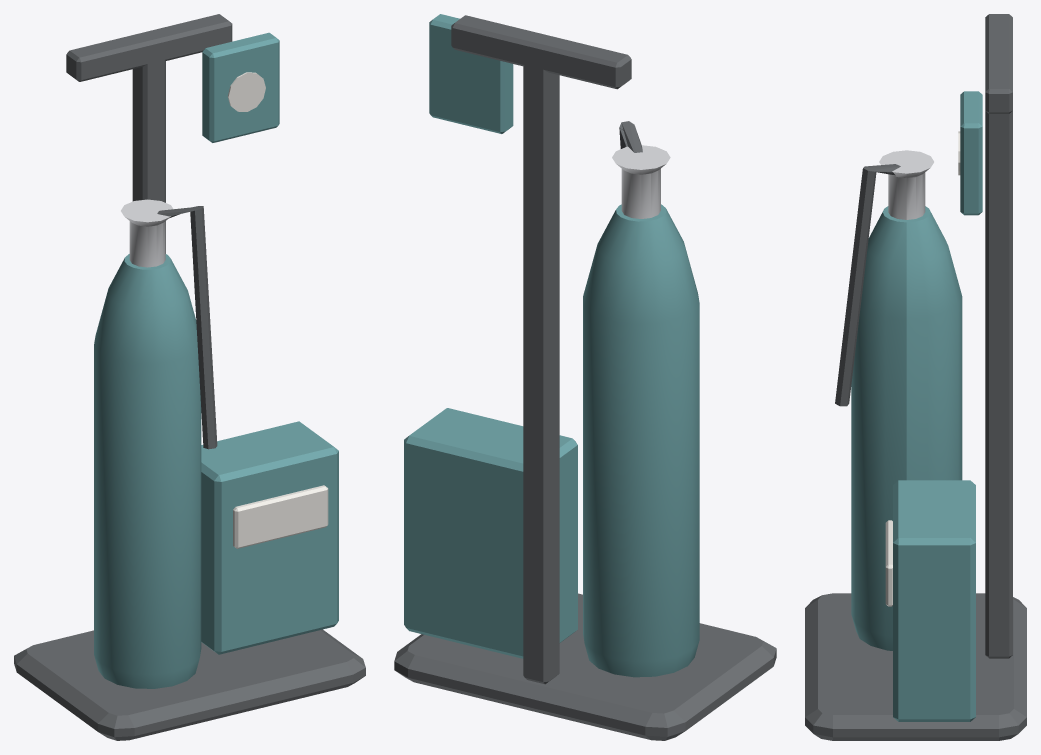
Rendered from hotel-and-resort-operations-corridor-fire-point-dbadb88e__25847.glb.
3 views of the same model, side by side, from view 1: azimuth 30°, elevation 25°; view 2: azimuth 150°, elevation 25°; view 3: azimuth 270°, elevation 25° (orthographic). The views are drawn at different scales.
Visible parts, largest first — view 1: corridor-fire-point; view 2: corridor-fire-point; view 3: corridor-fire-point.
Part boxes in pixels (x1,y1,x2,y2): corridor-fire-point: (14, 14, 365, 740); corridor-fire-point: (394, 14, 776, 740); corridor-fire-point: (805, 14, 1026, 740).
Size of the model in its own units: 0.35 by 0.75 by 0.24.
